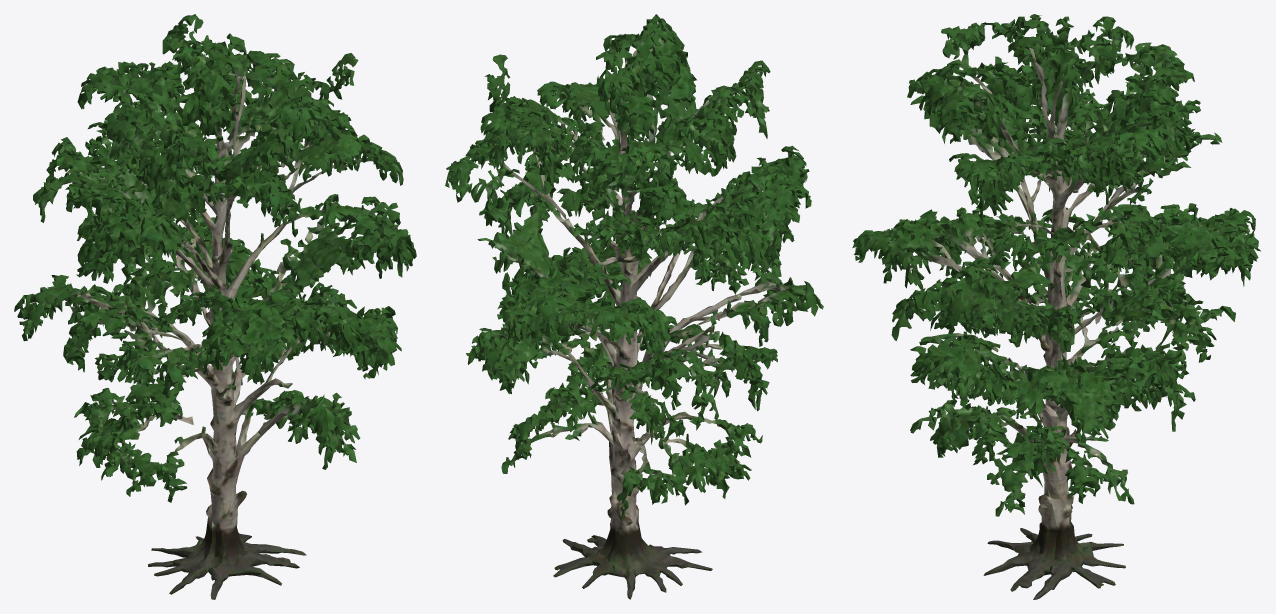
The model's file is r7-betula-utilis.glb.
3 views of the same model, side by side, from view 1: azimuth 30°, elevation 25°; view 2: azimuth 150°, elevation 25°; view 3: azimuth 270°, elevation 25° (orthographic). The views are drawn at different scales.
Parts seen in each view (by area): view 1: geometry_0; view 2: geometry_0; view 3: geometry_0.
Part boxes in pixels (left/top/right/bottom): geometry_0: left=14, top=14, right=416, bottom=599; geometry_0: left=445, top=14, right=823, bottom=599; geometry_0: left=852, top=14, right=1260, bottom=599.
Size of the model in its own units: 9.42 by 15 by 10.22.
Materials: 1 (1 with a texture image).
